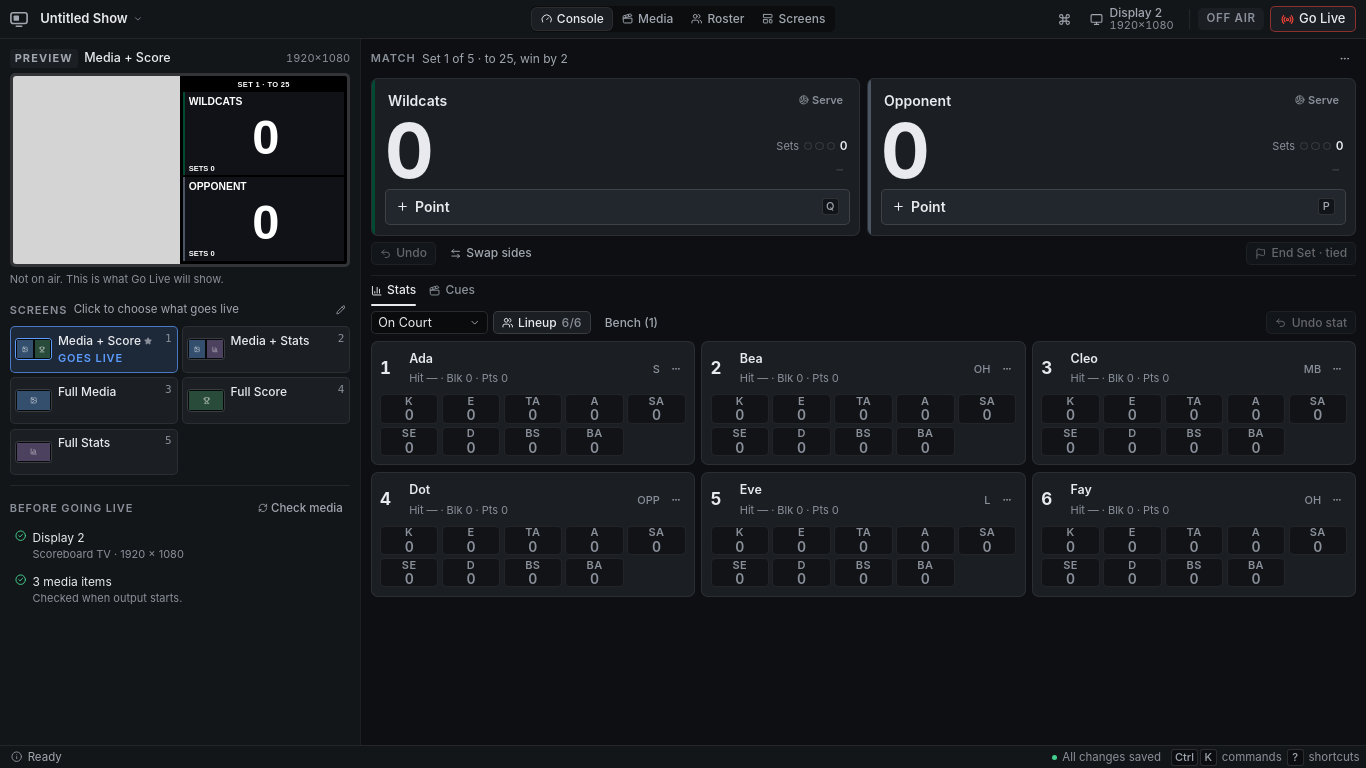
taking output live › prepares hidden, starts the armed Screen, then reveals and shows ON AIR
The width and height of the screenshot is (1366, 768).
Click the button "Go Live" at (1313, 19), box [1270, 6, 1356, 32]
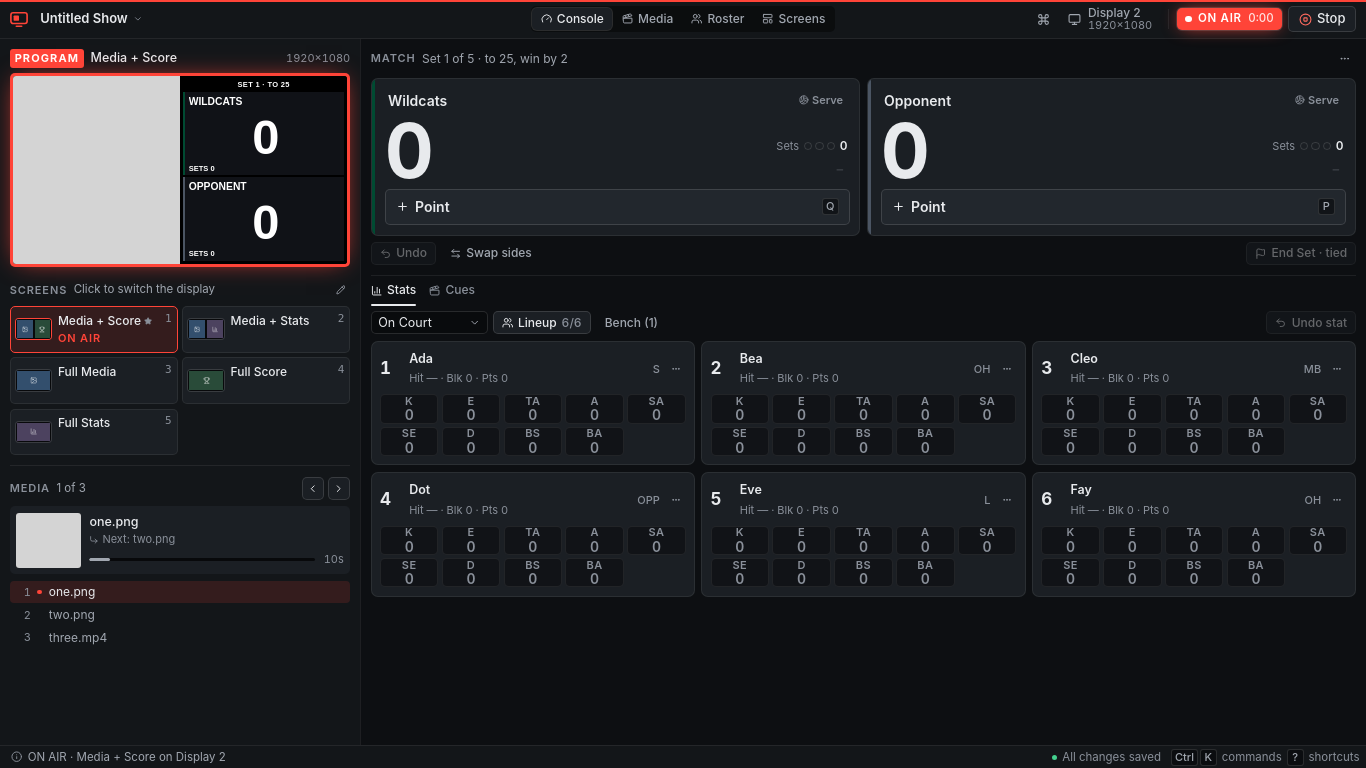
Result: the message "ON AIR" is shown at [1177, 8, 1282, 30]
Result: the button "Stop" is shown at [1288, 6, 1356, 32]
Result: the text "PROGRAM" is shown at [10, 49, 84, 68]
